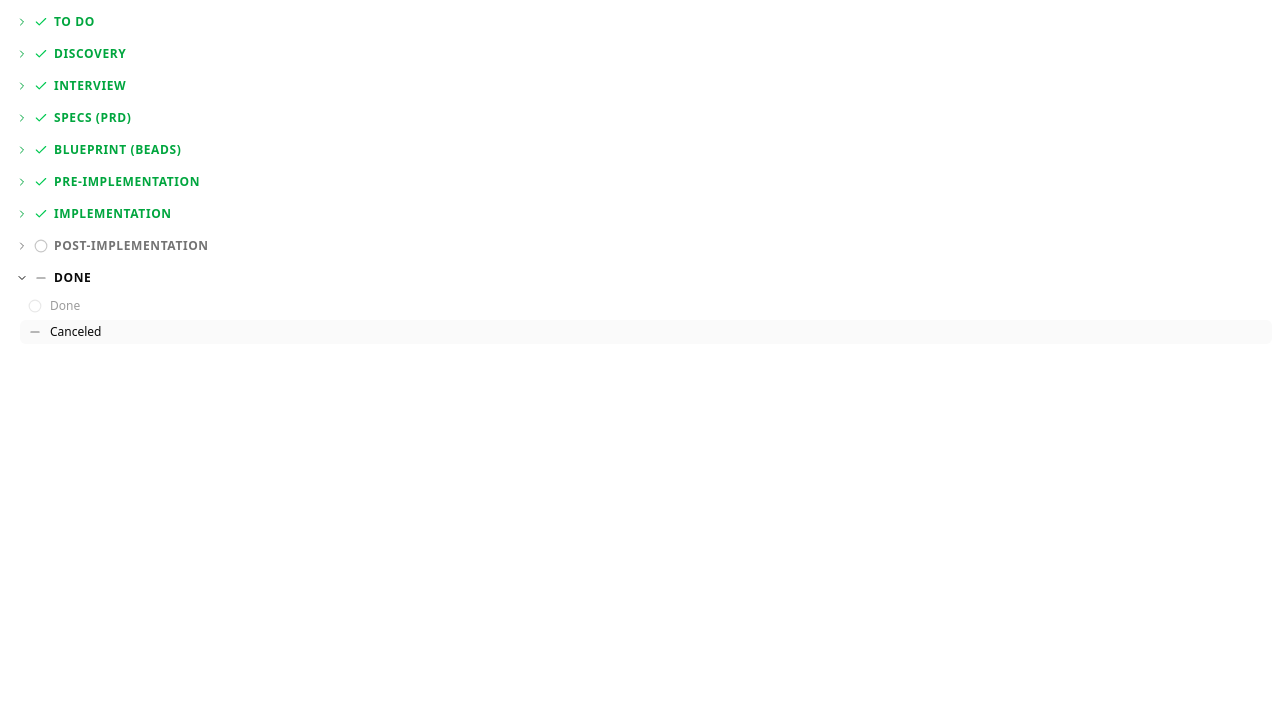
it: PhaseTimeline › keeps ordinary canceled tickets reviewable through their last working phase
Click the button "Implementation": (113, 214) [8,200,1272,228]
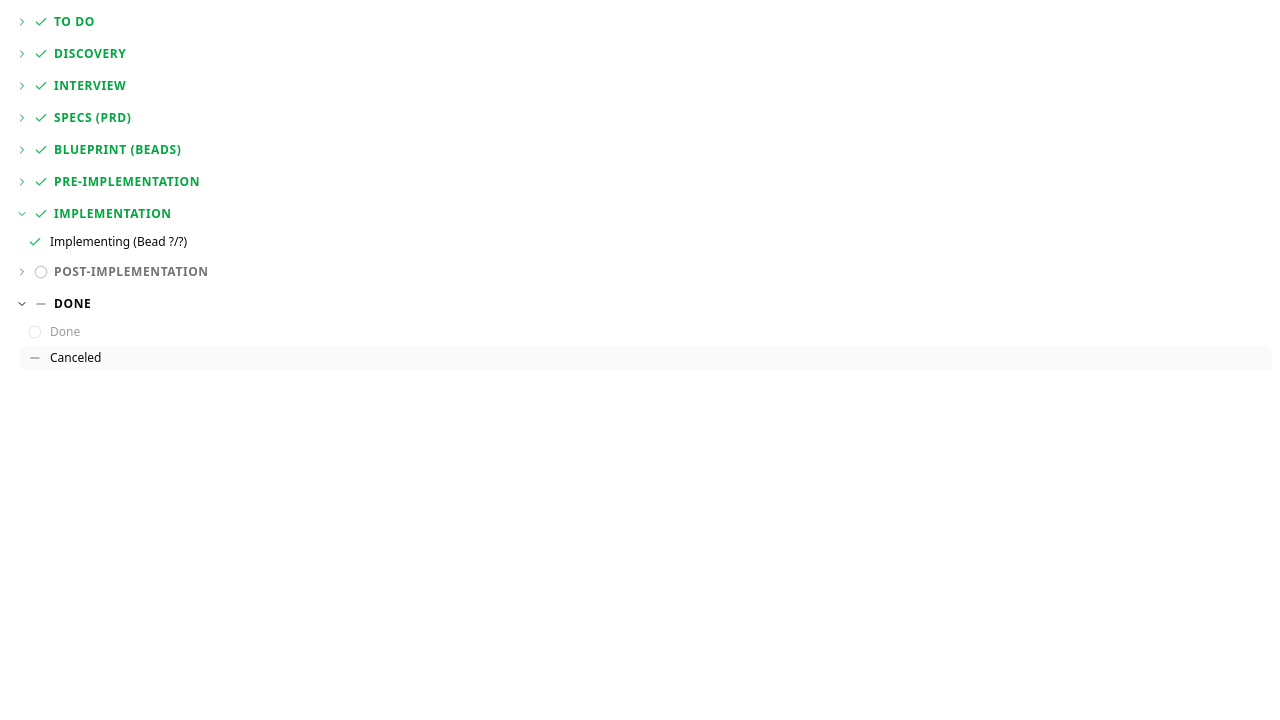
Click the button "Post-Implementation": (131, 272) [8,258,1272,286]
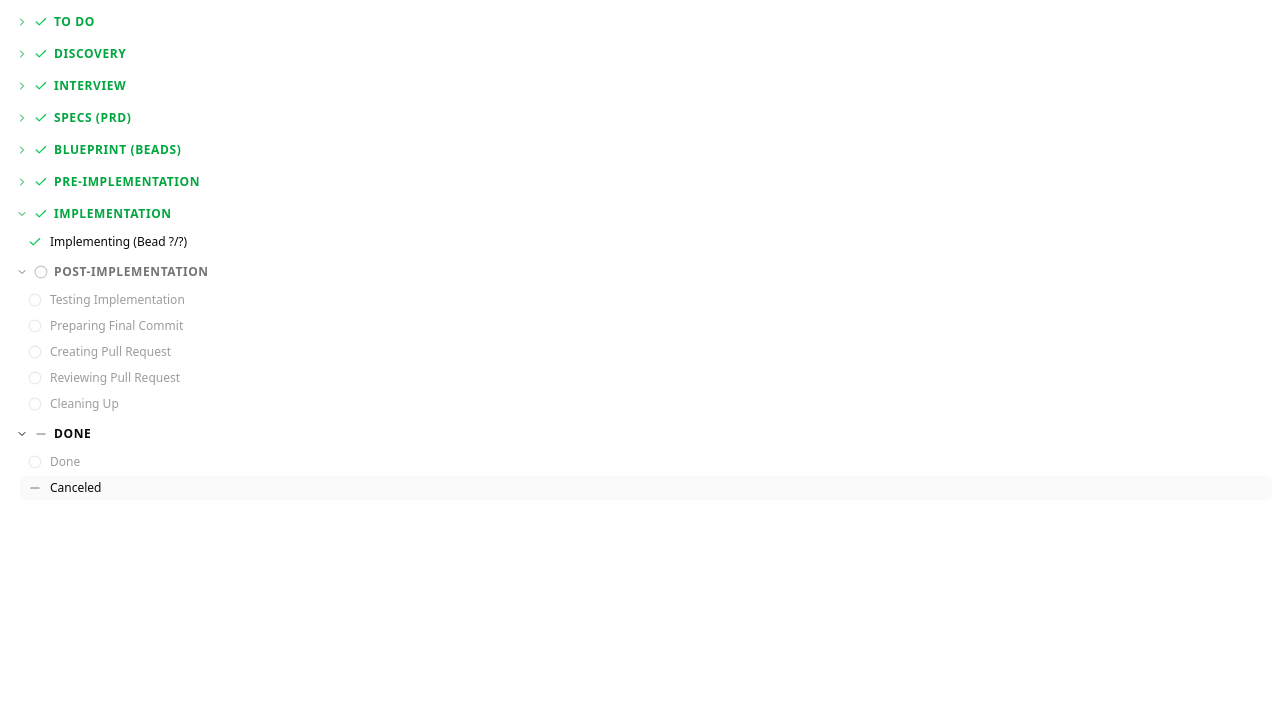
Result: the button "Implementing (Bead ?/?)" is enabled at [20,230,1272,254]
Result: the button "Testing Implementation" is disabled at [20,288,1272,312]
